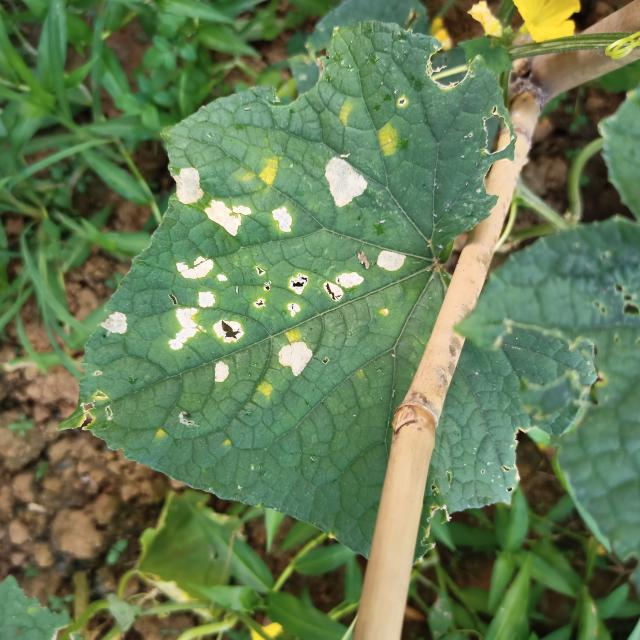disease_cucumber: (150, 249, 420, 384), (171, 163, 251, 243), (314, 149, 374, 215), (233, 152, 283, 188), (94, 309, 140, 340), (371, 120, 404, 159), (268, 205, 297, 237), (336, 94, 360, 132), (253, 377, 280, 399), (282, 325, 305, 342)
